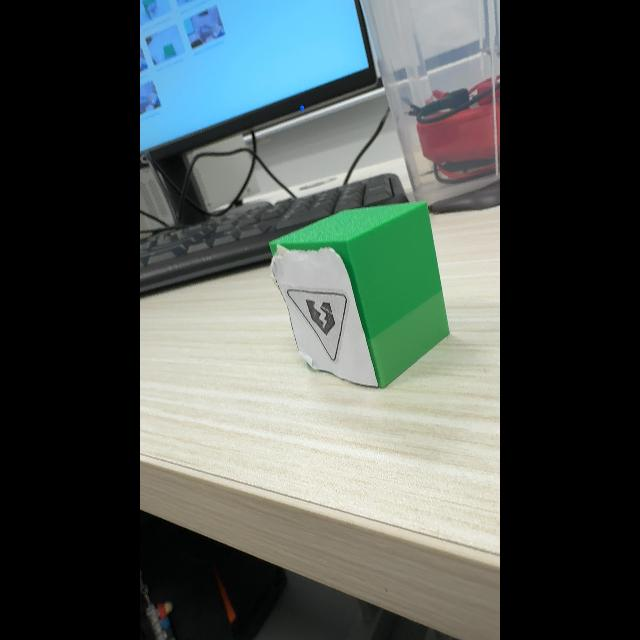Earthquake: (286, 289, 349, 361)
